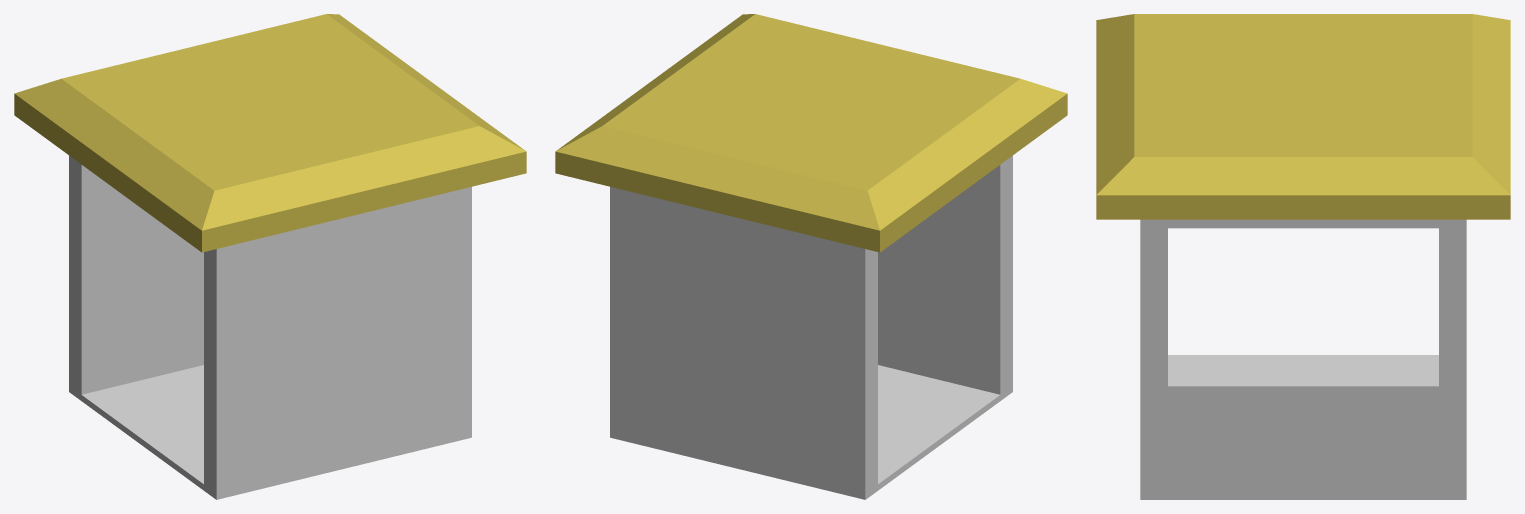
Rendered from store_yellow_GLB.glb.
3 views of the same model, side by side, from view 1: azimuth 30°, elevation 25°; view 2: azimuth 150°, elevation 25°; view 3: azimuth 270°, elevation 25° (orthographic). The views are drawn at different scales.
Parts seen in each view (by area): view 1: Store; view 2: Store; view 3: Store.
Part boxes in pixels (left/top/right/bottom): Store: left=14, top=14, right=526, bottom=499; Store: left=555, top=14, right=1067, bottom=499; Store: left=1096, top=14, right=1510, bottom=499.
Bounding box in the file's own units: 2.54 × 2.34 × 2.54.
